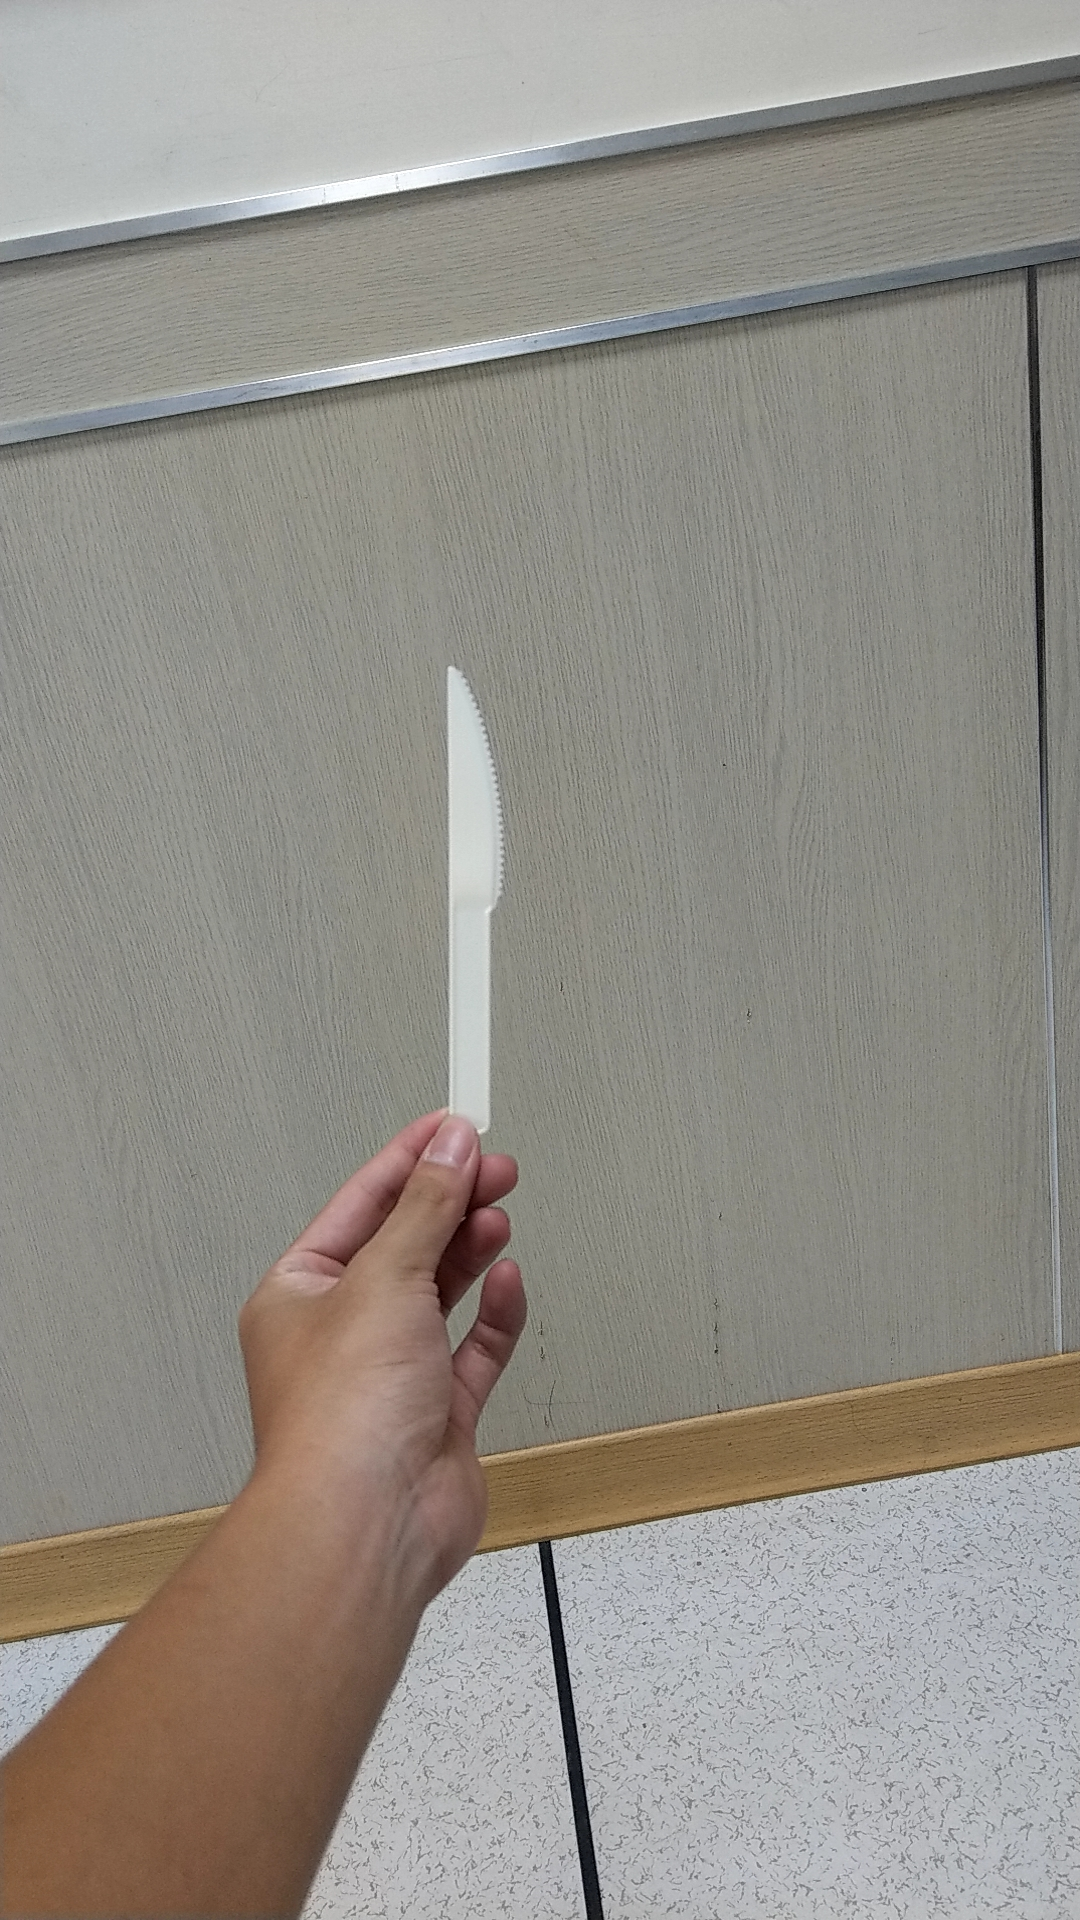knife: (393, 629, 541, 1125)
